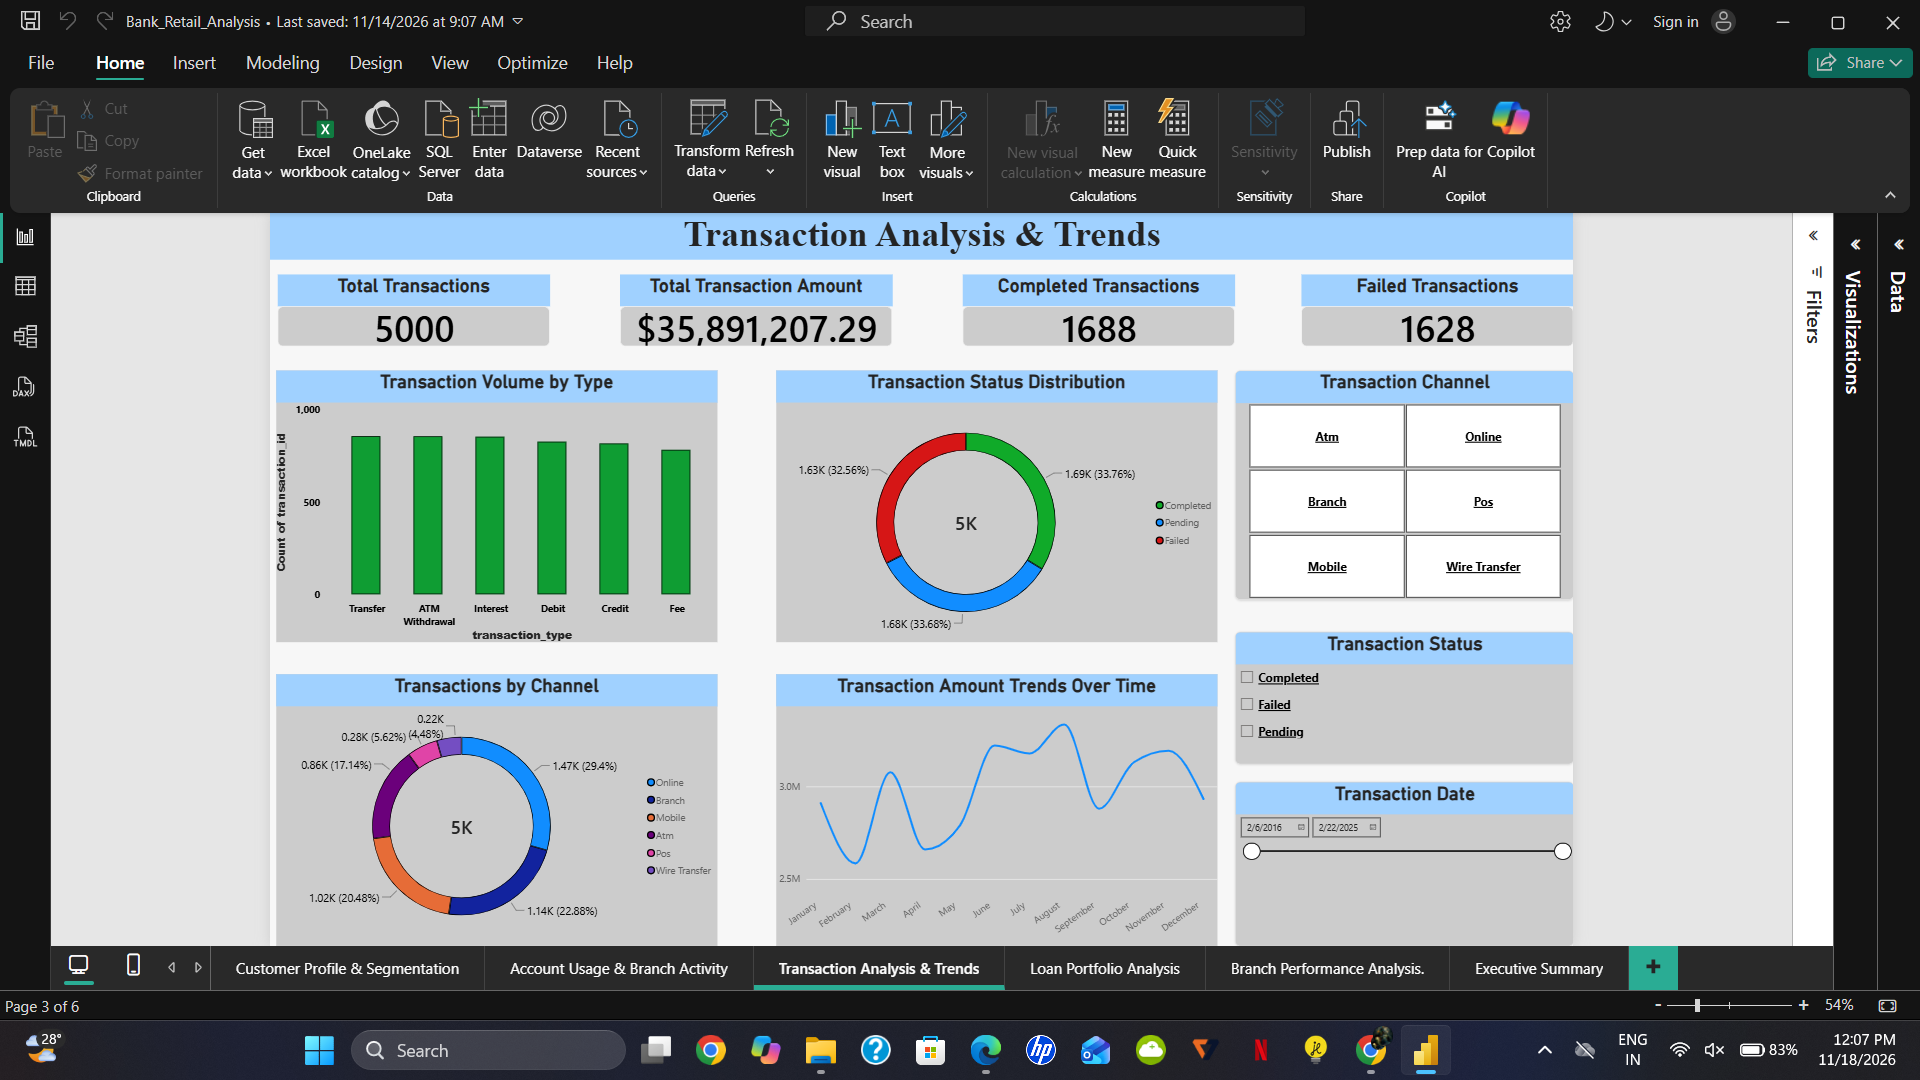

What the dashboard file says about the page in this screenshot:
{"tool":"powerbi","page":{"name":"Transaction Analysis & Trends","canvas":[1920,1080],"ordinal":2},"visuals":[{"type":"textbox","box":[0,0,1920.4,69.1],"z":0},{"type":"cardVisual","title":"Total Transactions","fields":{"Data":["accounts.Total Transactions"]},"box":[10.3,90.6,401.4,107],"z":1},{"type":"cardVisual","title":"Total Transaction Amount","fields":{"Data":["accounts.Total Transaction Amount"]},"box":[514.6,90.6,401.4,107],"z":2},{"type":"cardVisual","title":"Completed Transactions","fields":{"Data":["accounts.Completed Transactions"]},"box":[1018.9,90.6,401.4,107],"z":3},{"type":"cardVisual","title":"Failed Transactions","fields":{"Data":["accounts.Failed Transactions"]},"box":[1519,90.6,401.4,107],"z":4},{"type":"clusteredColumnChart","title":"Transaction Volume by Type","fields":{"Category":["transactions.transaction_type"],"Y":["Count(transactions.transaction_id)"]},"box":[9.4,232.8,649.5,399.8],"z":5},{"type":"donutChart","title":"Transaction Status Distribution","fields":{"Category":["transactions.status"],"Y":["CountNonNull(transactions.transaction_id)"]},"box":[745.3,232.8,649.5,399.8],"z":6},{"type":"lineChart","title":"Transaction Amount Trends Over Time","fields":{"Category":["date_table.Date.Variation.Date Hierarchy.Year","date_table.Date.Variation.Date Hierarchy.Month"],"Y":["Sum(transactions.amount)"]},"box":[745.3,679.5,649.5,399.8],"z":7},{"type":"donutChart","title":"Transactions by Channel","fields":{"Category":["transactions.channel"],"Y":["CountNonNull(transactions.transaction_id)"]},"box":[9.4,679.5,649.5,399.8],"z":8},{"type":"slicer","title":"Transaction Status","fields":{"Values":["transactions.status"]},"box":[1421,615.7,499.3,195.2],"z":9},{"type":"slicer","title":"Transaction Channel","fields":{"Values":["transactions.channel"]},"box":[1421,232.8,499.3,337.9],"z":10},{"type":"slicer","title":"Transaction Date","fields":{"Values":["transactions.transaction_date"]},"box":[1421,837.2,499.3,242.2],"z":11}]}

Visuals, with their boxes on the page's 1920x1080 design canvas (x1, y1, x2, y2). These are canvas units, not pixel positions in the 1920x1080 screenshot, which may show the page scaled, cropped or inside an application window:
textbox: box(0, 0, 1920, 69)
"Total Transactions" cardVisual: box(10, 91, 412, 198)
"Total Transaction Amount" cardVisual: box(515, 91, 916, 198)
"Completed Transactions" cardVisual: box(1019, 91, 1420, 198)
"Failed Transactions" cardVisual: box(1519, 91, 1920, 198)
"Transaction Volume by Type" clusteredColumnChart: box(9, 233, 659, 633)
"Transaction Status Distribution" donutChart: box(745, 233, 1395, 633)
"Transaction Amount Trends Over Time" lineChart: box(745, 680, 1395, 1079)
"Transactions by Channel" donutChart: box(9, 680, 659, 1079)
"Transaction Status" slicer: box(1421, 616, 1920, 811)
"Transaction Channel" slicer: box(1421, 233, 1920, 571)
"Transaction Date" slicer: box(1421, 837, 1920, 1079)
